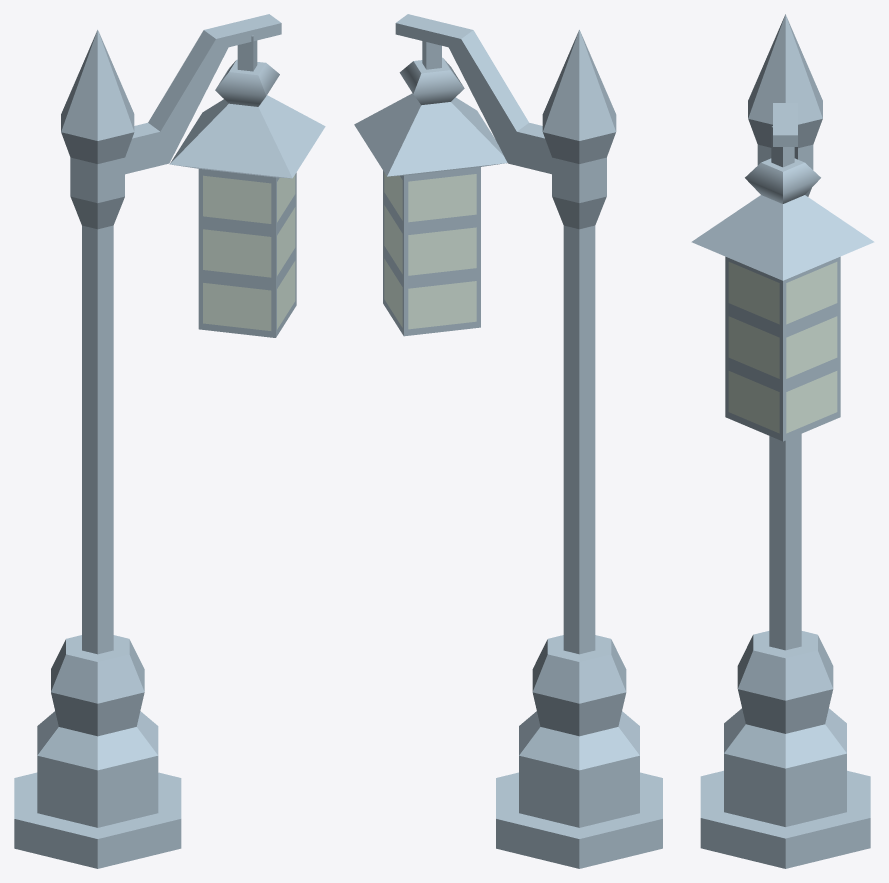
The model's file is streetlight_11.fbx.
3 renders of one model, left to right at view 1: azimuth 30°, elevation 25°; view 2: azimuth 150°, elevation 25°; view 3: azimuth 270°, elevation 25°, orthographic.
Visible parts, largest first — view 1: streetlight_11, pCube20, pPlane16; view 2: streetlight_11, pCube20, pPlane16; view 3: streetlight_11, pCube20, pPlane16.
Part boxes in pixels (x1,y1,x2,y2): streetlight_11: (14,29,181,868); pCube20: (169,35,325,337); pPlane16: (125,14,281,174); streetlight_11: (496,29,662,868); pCube20: (354,41,507,336); pPlane16: (395,14,551,174); streetlight_11: (700,14,870,868); pCube20: (691,126,874,441); pPlane16: (773,103,797,159).
Size of the model in its own units: 2.15 by 5.3 by 1.09.
